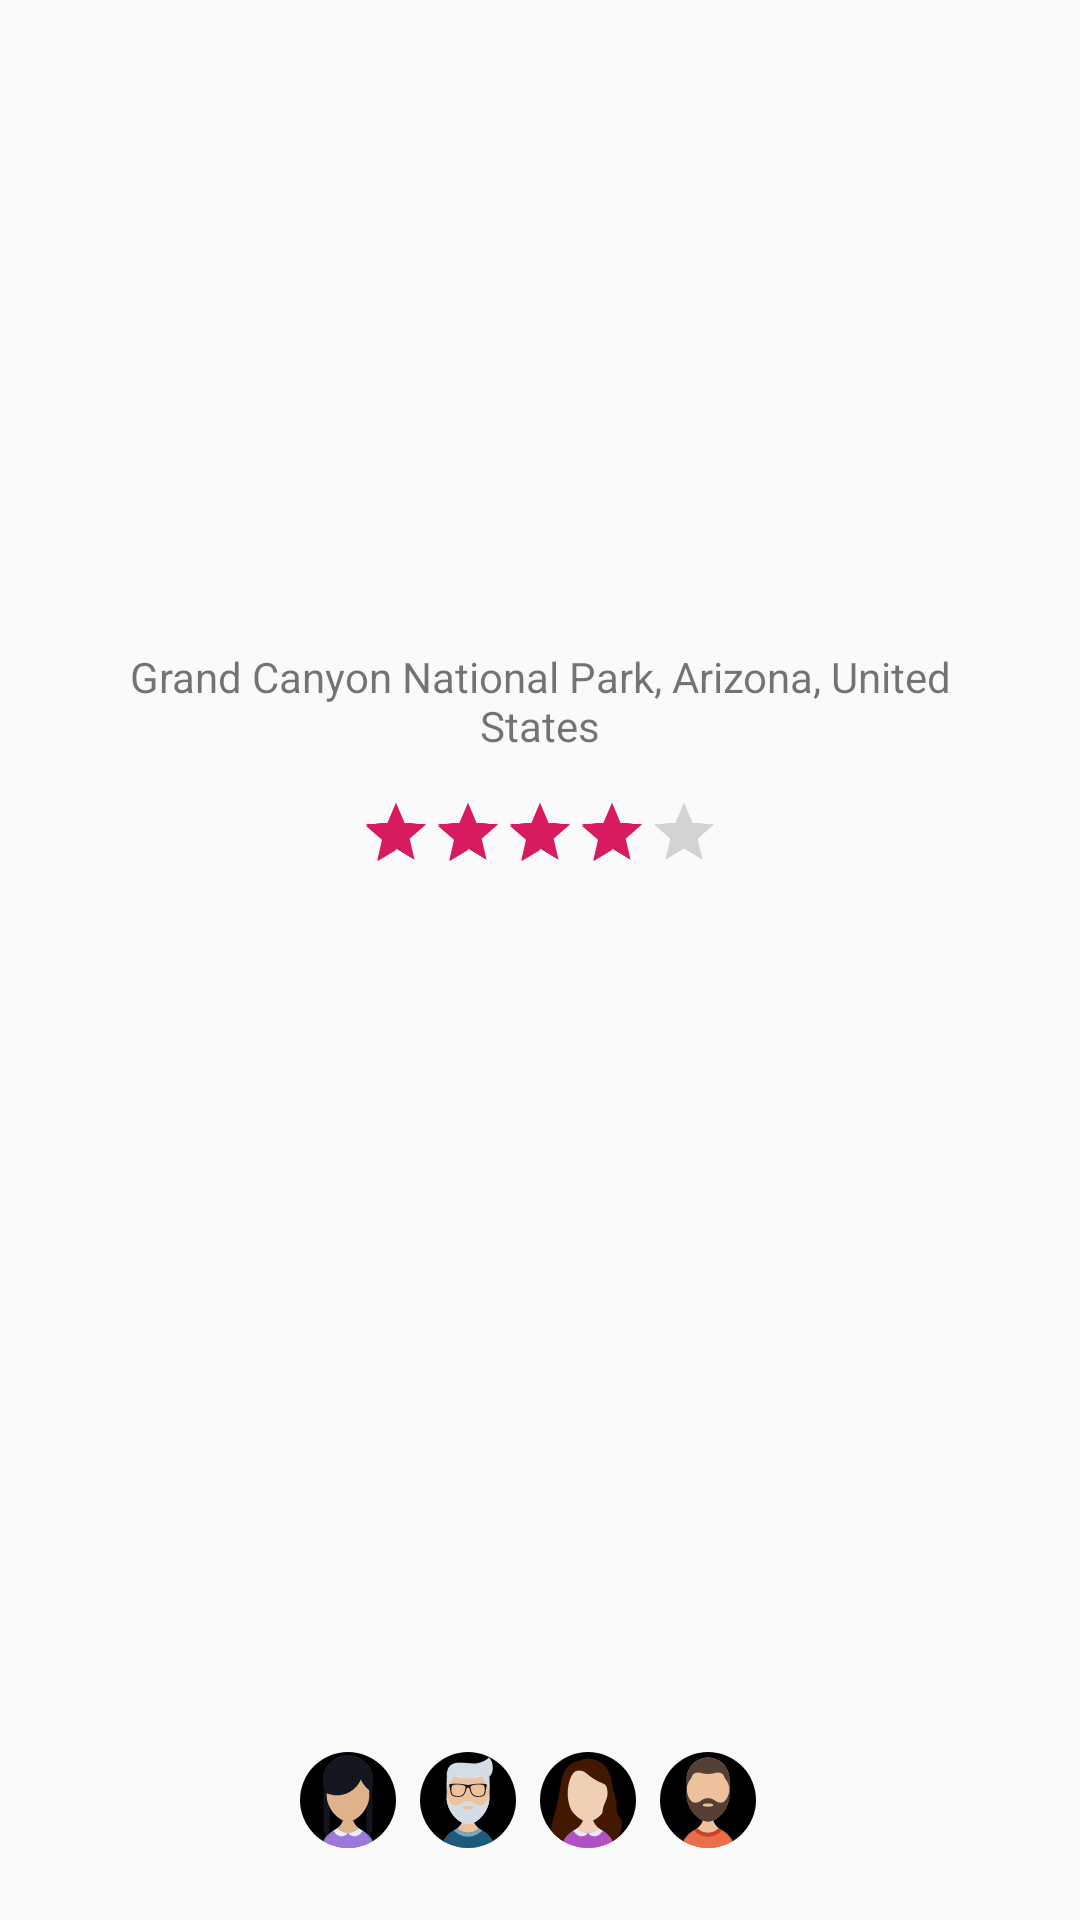

Screen size 1080x1920. Icon name, then its center in pixels as point (x, y):
girl: point (348, 1800), point (588, 1800)
man: point (468, 1800), point (708, 1800)
